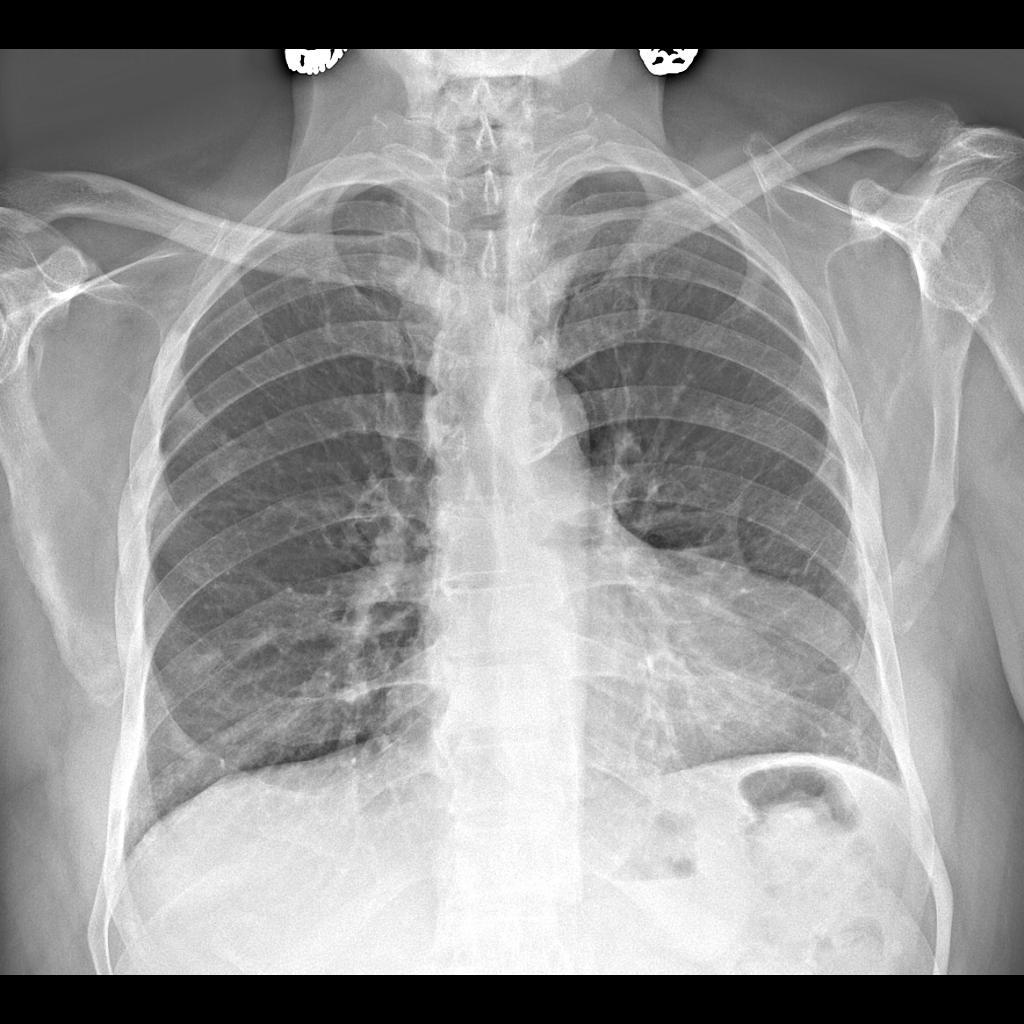Nodule: (189, 647, 232, 677)
